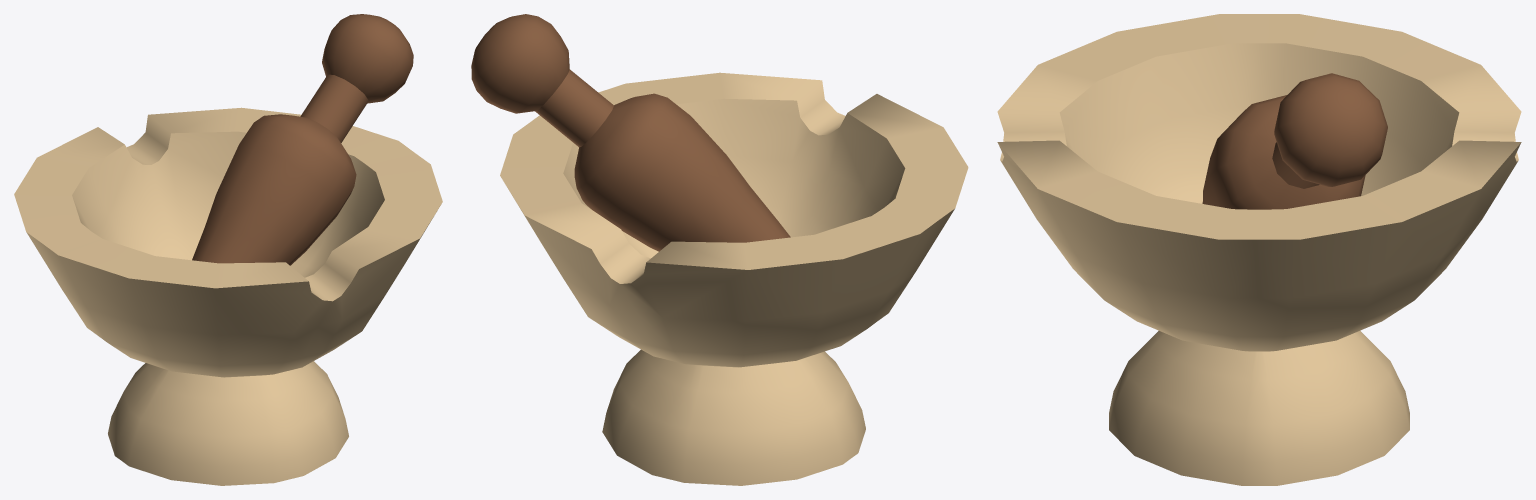
Rendered from SE_103_mortar.glb.
The picture shows the model from 3 angles, left to right: view 1: azimuth 30°, elevation 25°; view 2: azimuth 150°, elevation 25°; view 3: azimuth 270°, elevation 25°; orthographic projection. The views are drawn at different scales.
Visible parts, largest first — view 1: mortar_bowl, mortar_tool; view 2: mortar_bowl, mortar_tool; view 3: mortar_bowl, mortar_tool.
Boxes of the visible parts, left/top/right/bottom form: mortar_bowl: left=14, top=107, right=442, bottom=485; mortar_tool: left=192, top=14, right=413, bottom=265; mortar_bowl: left=500, top=72, right=968, bottom=485; mortar_tool: left=471, top=14, right=790, bottom=251; mortar_bowl: left=997, top=14, right=1521, bottom=485; mortar_tool: left=1202, top=73, right=1387, bottom=209.
Bounding box in the file's own units: 0.5529 × 0.481 × 0.5153.
